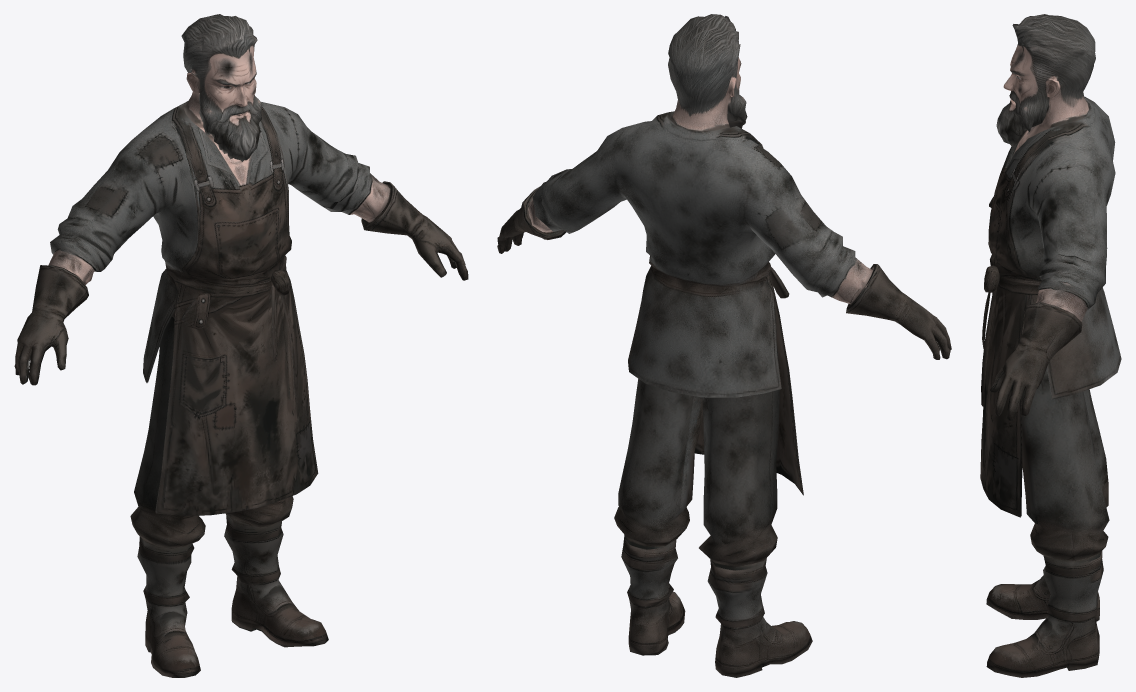
The model's file is Meshy_AI_Grim_Forgekeeper_0914001249_texture.obj.
3 views of the same model, side by side, from view 1: azimuth 30°, elevation 25°; view 2: azimuth 150°, elevation 25°; view 3: azimuth 270°, elevation 25° (orthographic).
Parts seen in each view (by area): view 1: Meshy_AI_Grim_Forgekeeper_0914001249_texture; view 2: Meshy_AI_Grim_Forgekeeper_0914001249_texture; view 3: Meshy_AI_Grim_Forgekeeper_0914001249_texture.
Boxes of the visible parts, x1=… form: Meshy_AI_Grim_Forgekeeper_0914001249_texture: x1=14, y1=14, x2=468, y2=677; Meshy_AI_Grim_Forgekeeper_0914001249_texture: x1=497, y1=14, x2=951, y2=677; Meshy_AI_Grim_Forgekeeper_0914001249_texture: x1=980, y1=14, x2=1121, y2=677.
Bounding box in the file's own units: 0.7461 × 1 × 0.2056.
1 material, 1 textured.
